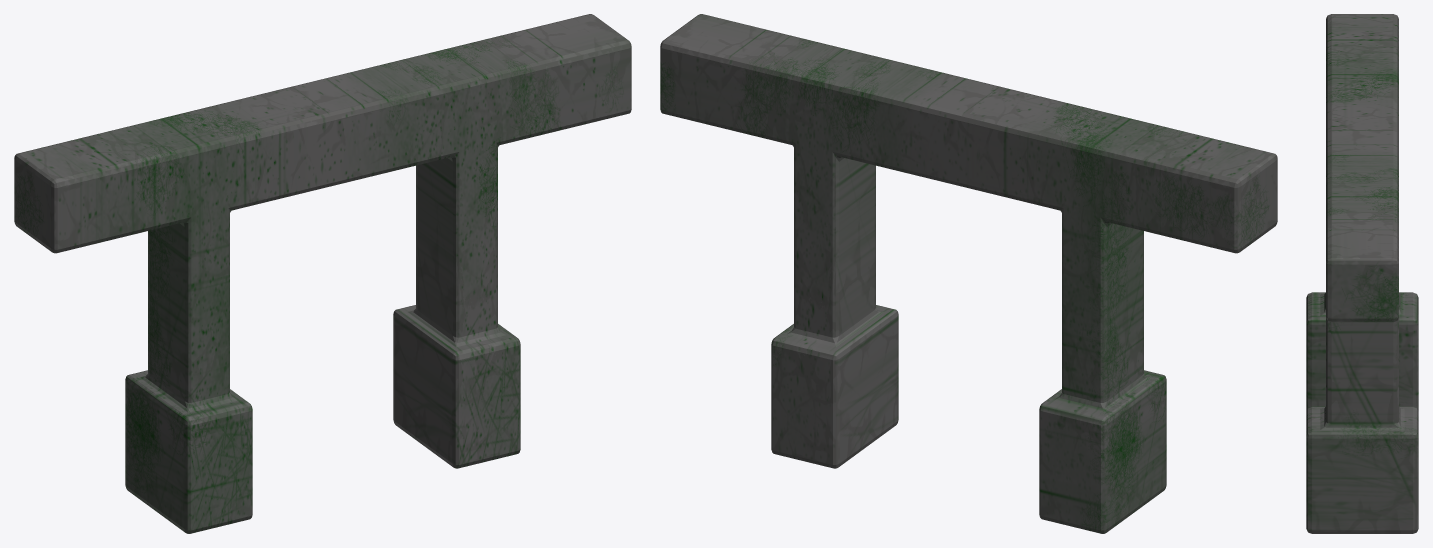
File: Pagar.glb
The picture shows the model from 3 angles, left to right: view 1: azimuth 30°, elevation 25°; view 2: azimuth 150°, elevation 25°; view 3: azimuth 270°, elevation 25°; orthographic projection. The views are drawn at different scales.
Visible parts, largest first — view 1: pagar; view 2: pagar; view 3: pagar.
Boxes of the visible parts, box(x1,y1,x2,y2) form: pagar: box(14, 14, 631, 533); pagar: box(660, 14, 1277, 533); pagar: box(1306, 14, 1418, 533).
Size of the model in its own units: 1.43 by 0.8864 by 0.2748.
1 material, 1 textured.
